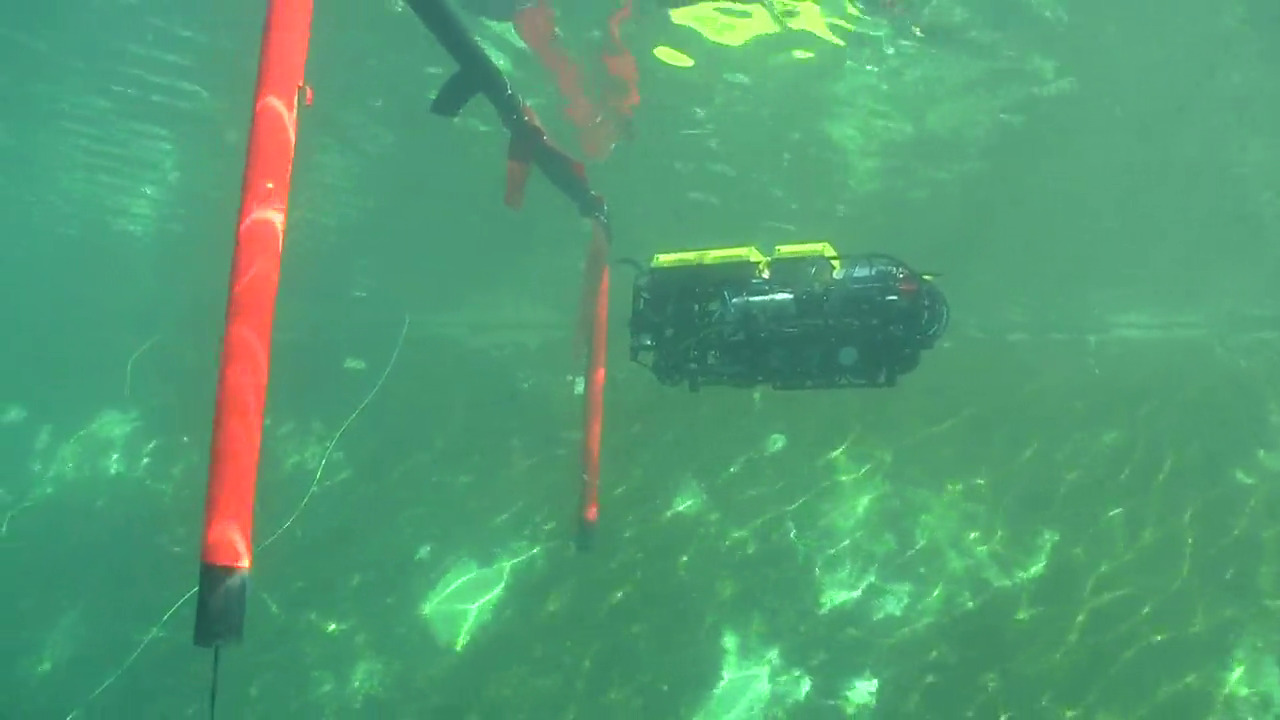gate: (180, 1, 623, 657)
